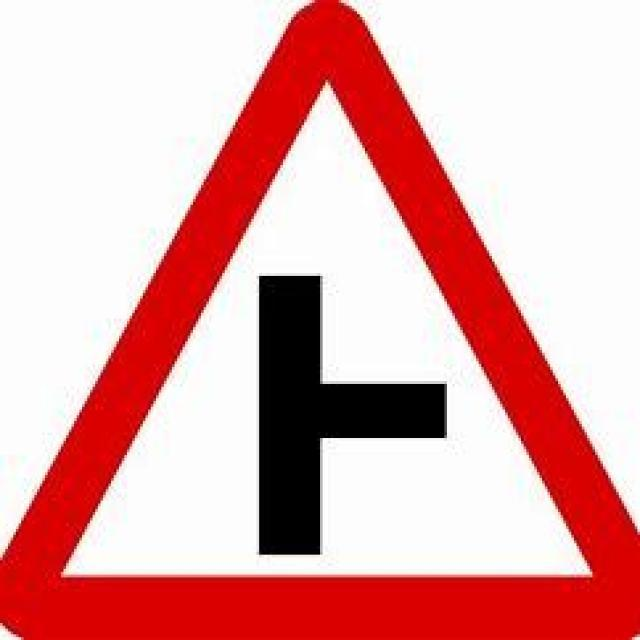side road right: (15, 16, 625, 625)
